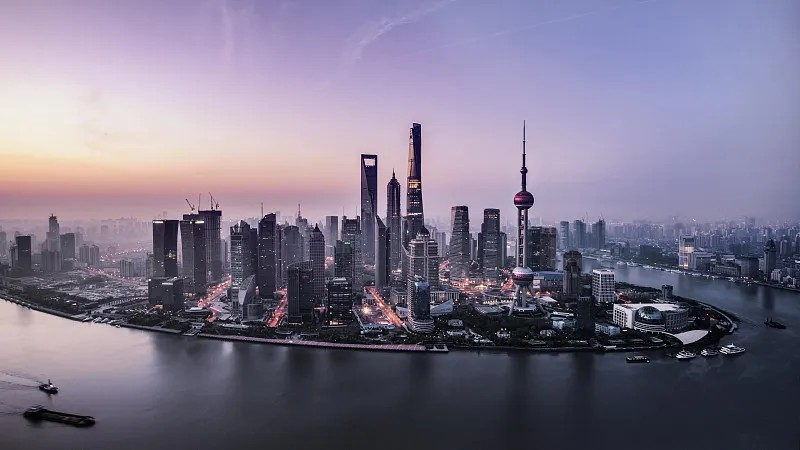Oriental: (509, 119, 545, 314)
